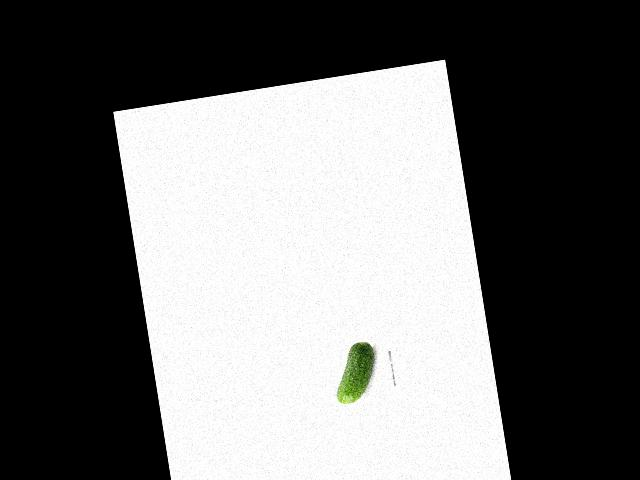cucumber: (329, 340, 381, 405)
